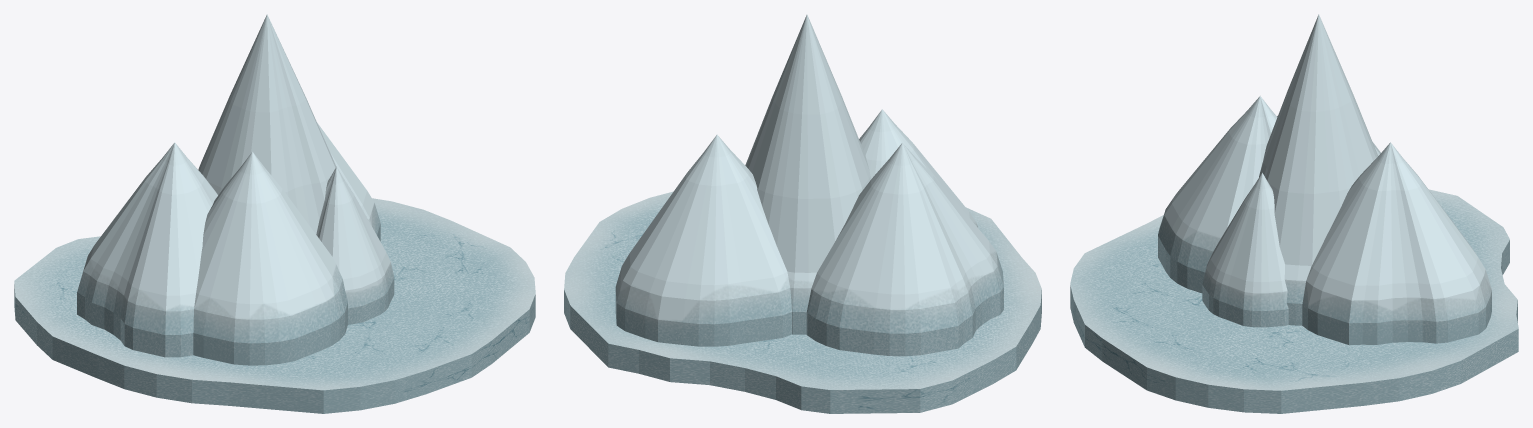
File: SnowyIsland.fbx
3 views of the same model, side by side, from view 1: azimuth 30°, elevation 25°; view 2: azimuth 150°, elevation 25°; view 3: azimuth 270°, elevation 25° (orthographic). The views are drawn at different scales.
Visible parts, largest first — view 1: SnowyIsland; view 2: SnowyIsland; view 3: SnowyIsland.
Part boxes in pixels (bbox=[...]): SnowyIsland: bbox=[14, 14, 535, 413]; SnowyIsland: bbox=[564, 14, 1041, 413]; SnowyIsland: bbox=[1070, 14, 1518, 413].
Bounding box in the file's own units: 3862 × 2527 × 3513.
